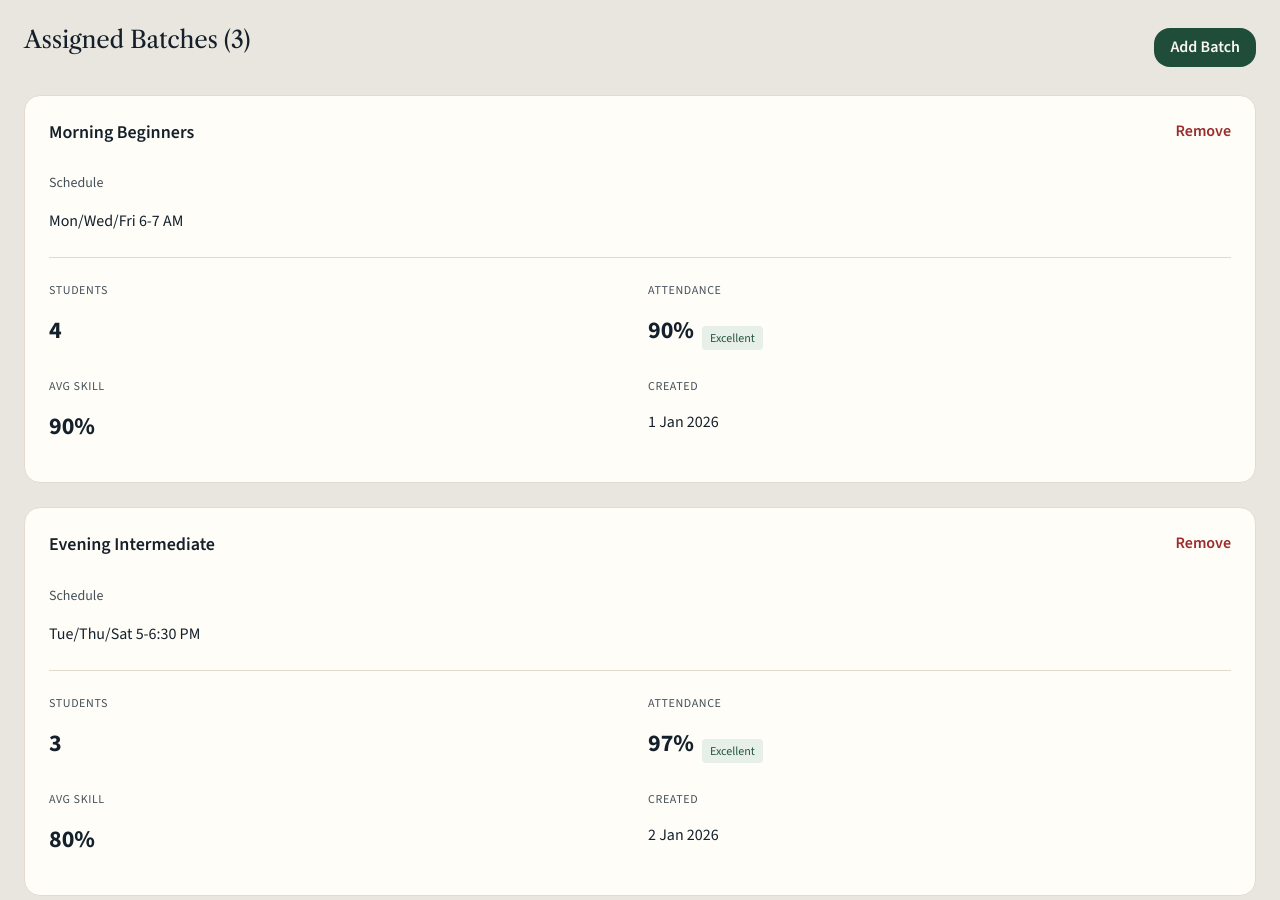
Scenario: CoachBatchesTab › Requirement 6.4-6.6: Batch unassignment functionality (HEAD_COACH only) › closes confirmation dialog when Cancel is clicked
Note: Click Remove button
Click the 1st button "Remove". click: coordinates (1203, 132)
box: [1176, 120, 1231, 143]
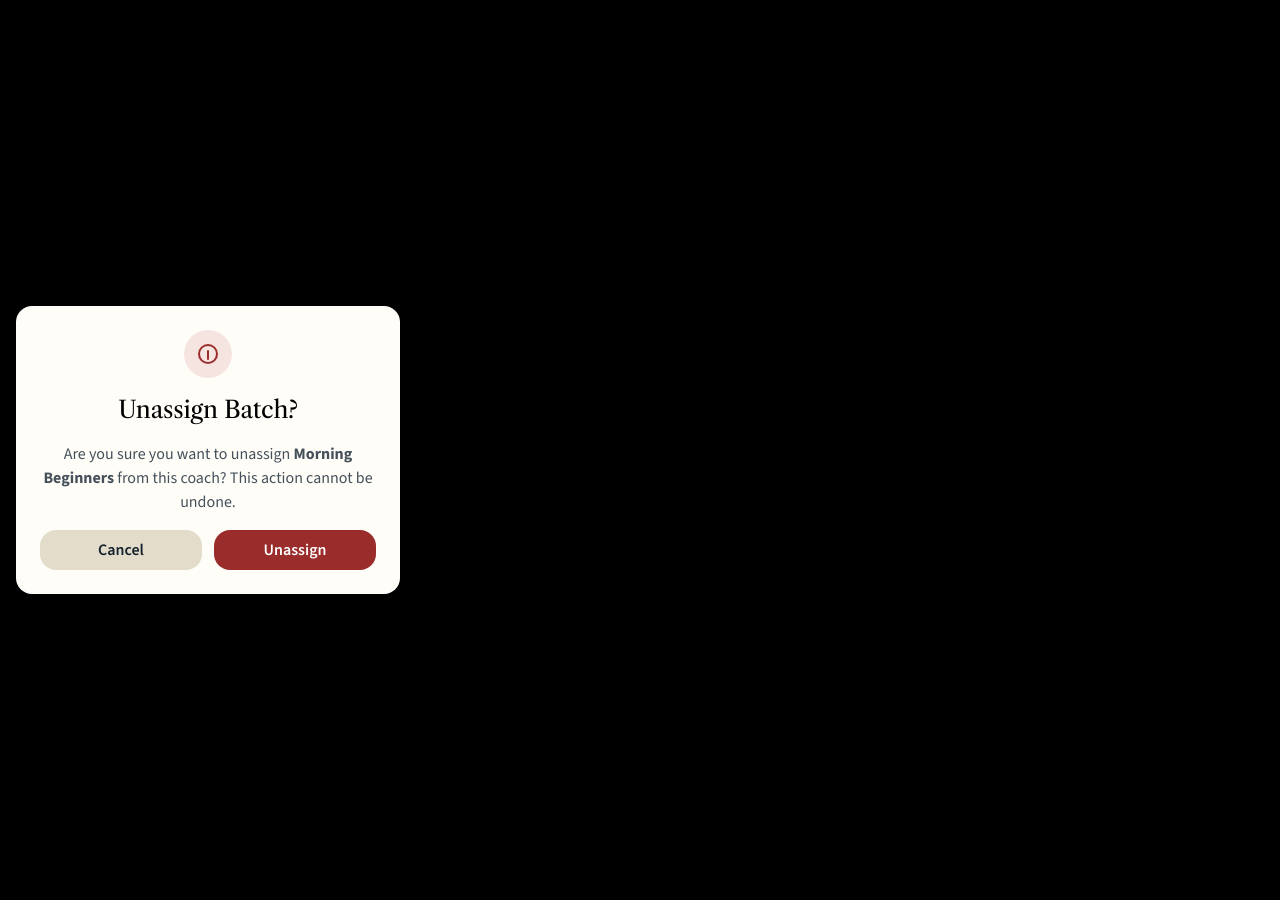
expect the heading "Unassign Batch?" is shown: met, box [118, 395, 298, 424]
Note: Click Cancel
Click the button "Cancel". click: coordinates (121, 550)
box: [40, 530, 202, 570]
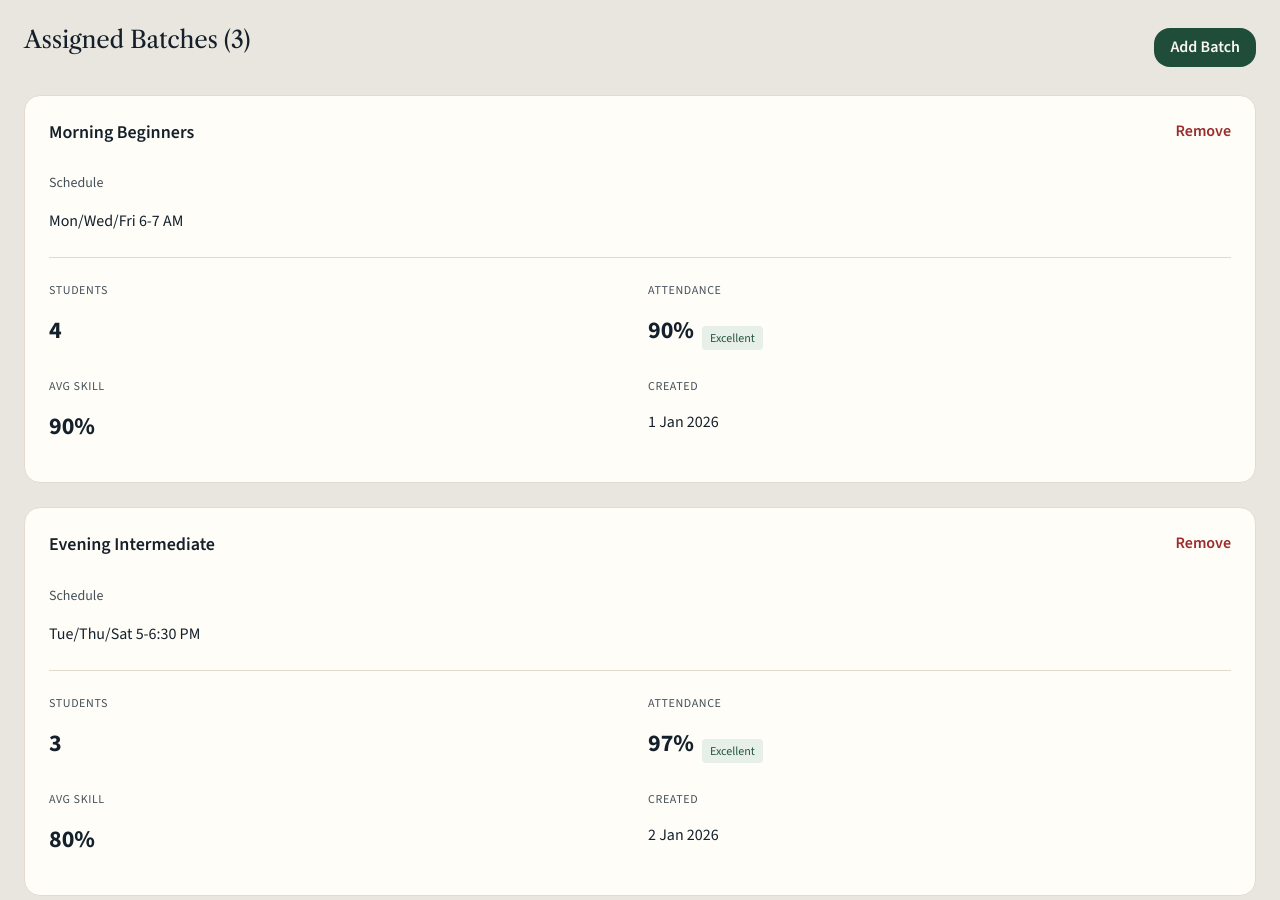
expect the heading "Unassign Batch?" is gone: met
